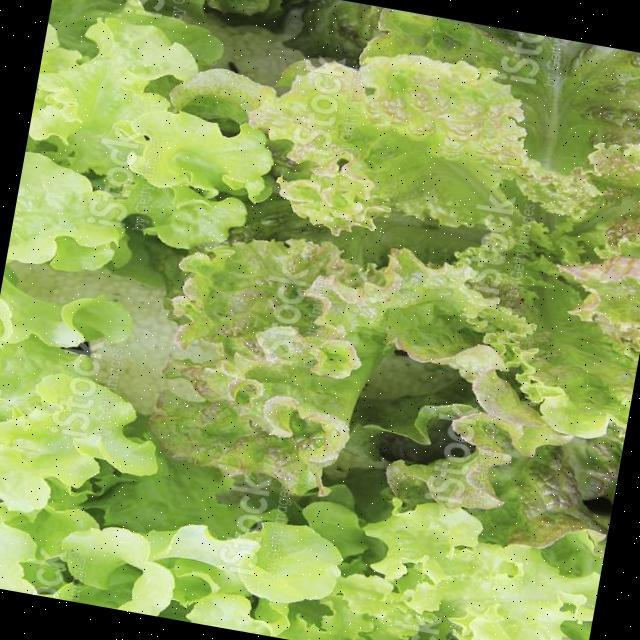Bacterial: (149, 241, 379, 490), (279, 41, 528, 240)
